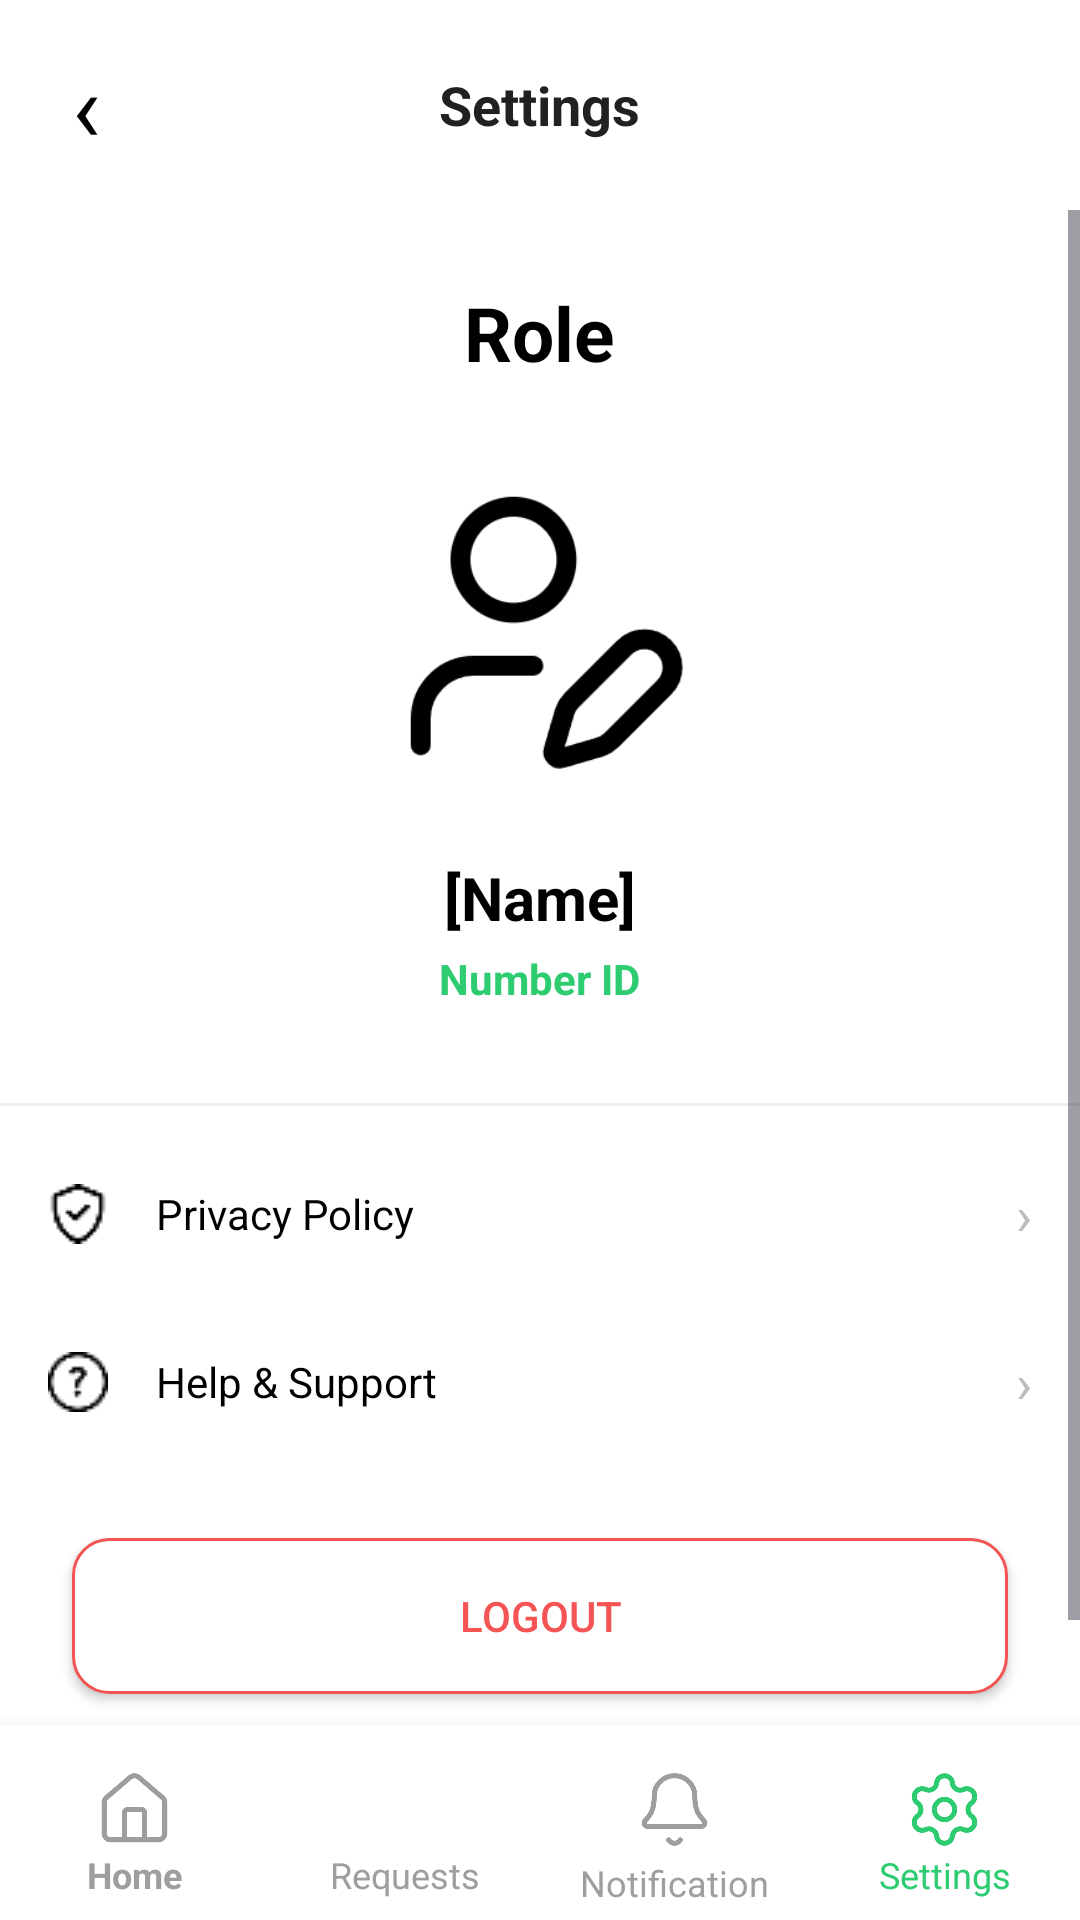

Icons on this 1080×1920 Android screen, each with its box as (x1=x1, y1=y1, x2=x2, y2=y2):
profile: (x1=410, y1=496, x2=683, y2=769)
